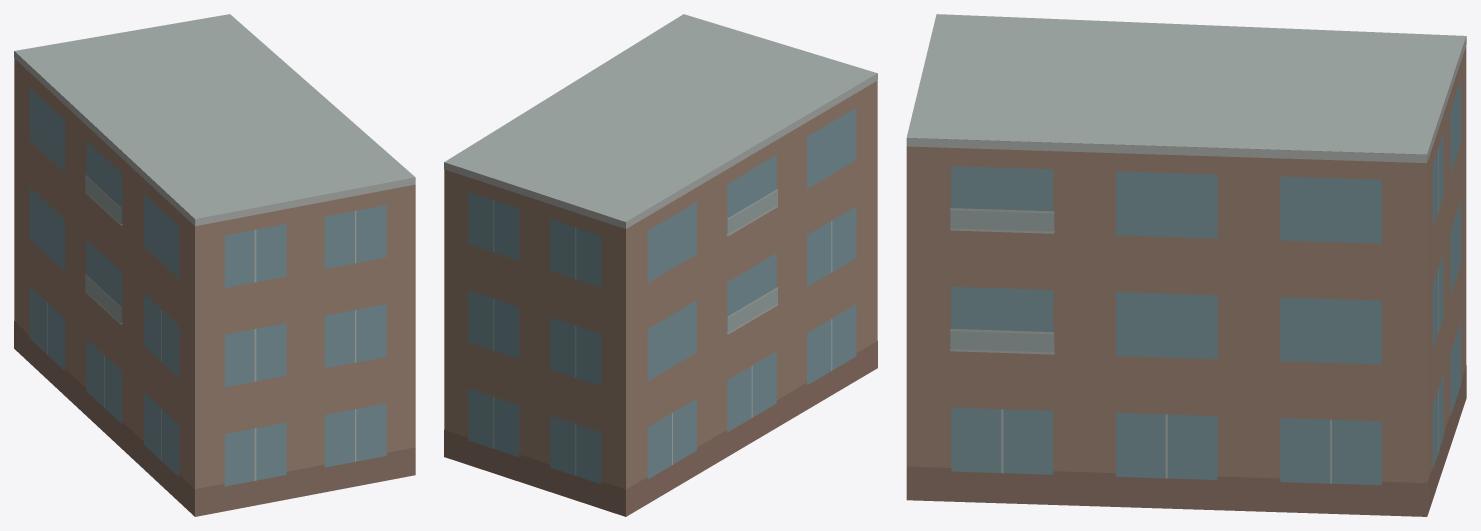
File: survey-upis-32878970.glb
3 views of the same model, side by side, from view 1: azimuth 30°, elevation 25°; view 2: azimuth 150°, elevation 25°; view 3: azimuth 270°, elevation 25° (orthographic). The views are drawn at different scales.
Parts seen in each view (by area): view 1: survey-upis-32878970.tmp; view 2: survey-upis-32878970.tmp; view 3: survey-upis-32878970.tmp.
Boxes of the visible parts, <box> form: survey-upis-32878970.tmp: <box>14,14,415,516</box>; survey-upis-32878970.tmp: <box>444,14,877,516</box>; survey-upis-32878970.tmp: <box>906,14,1466,516</box>.
Size of the model in its own units: 8.49 by 10.2 by 14.29.
